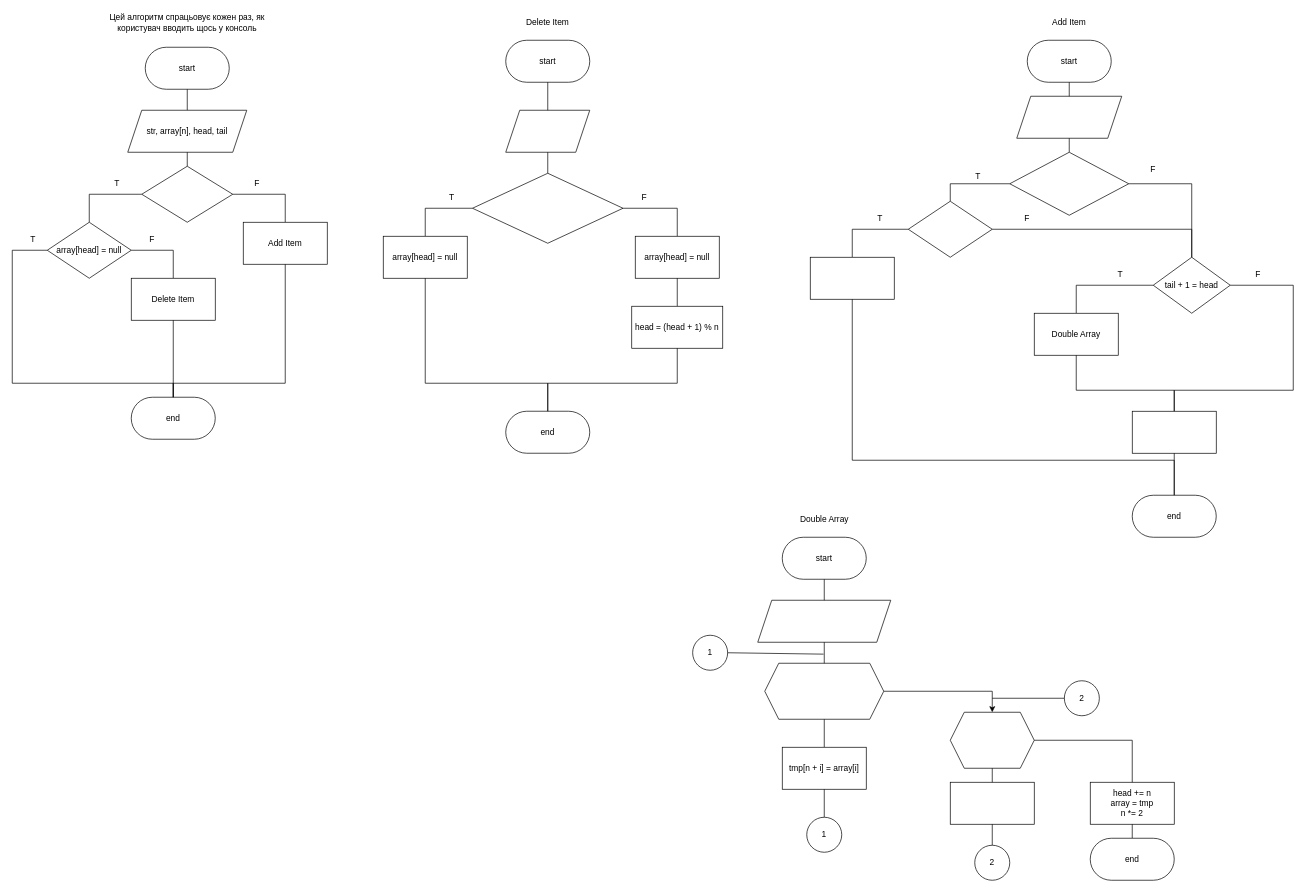
The diagram is 1306 pixels wide and 893 high, and some of its shapes have lost their labels. Each missing label, with the centre of its shape:
array[(head + 1) % n] = null: the point at 1069,183
array[(head + 1)%n] = null: the point at 547,208
array[n], head: the point at 547,131
array[n], head, tail, str: the point at 1069,117
array[tail] = null: the point at 950,229
array[tail] = str: the point at 852,278
i = 0; i <= tail; i ++: the point at 992,740
i = head; i < n; i ++: the point at 824,691
str = "out": the point at 187,194
tail = (tail + 1)%n array[tail] = str: the point at 1174,432
tmp[2n], array[n], head, tail: the point at 824,621
tmp[i] = array[i]: the point at 992,803
